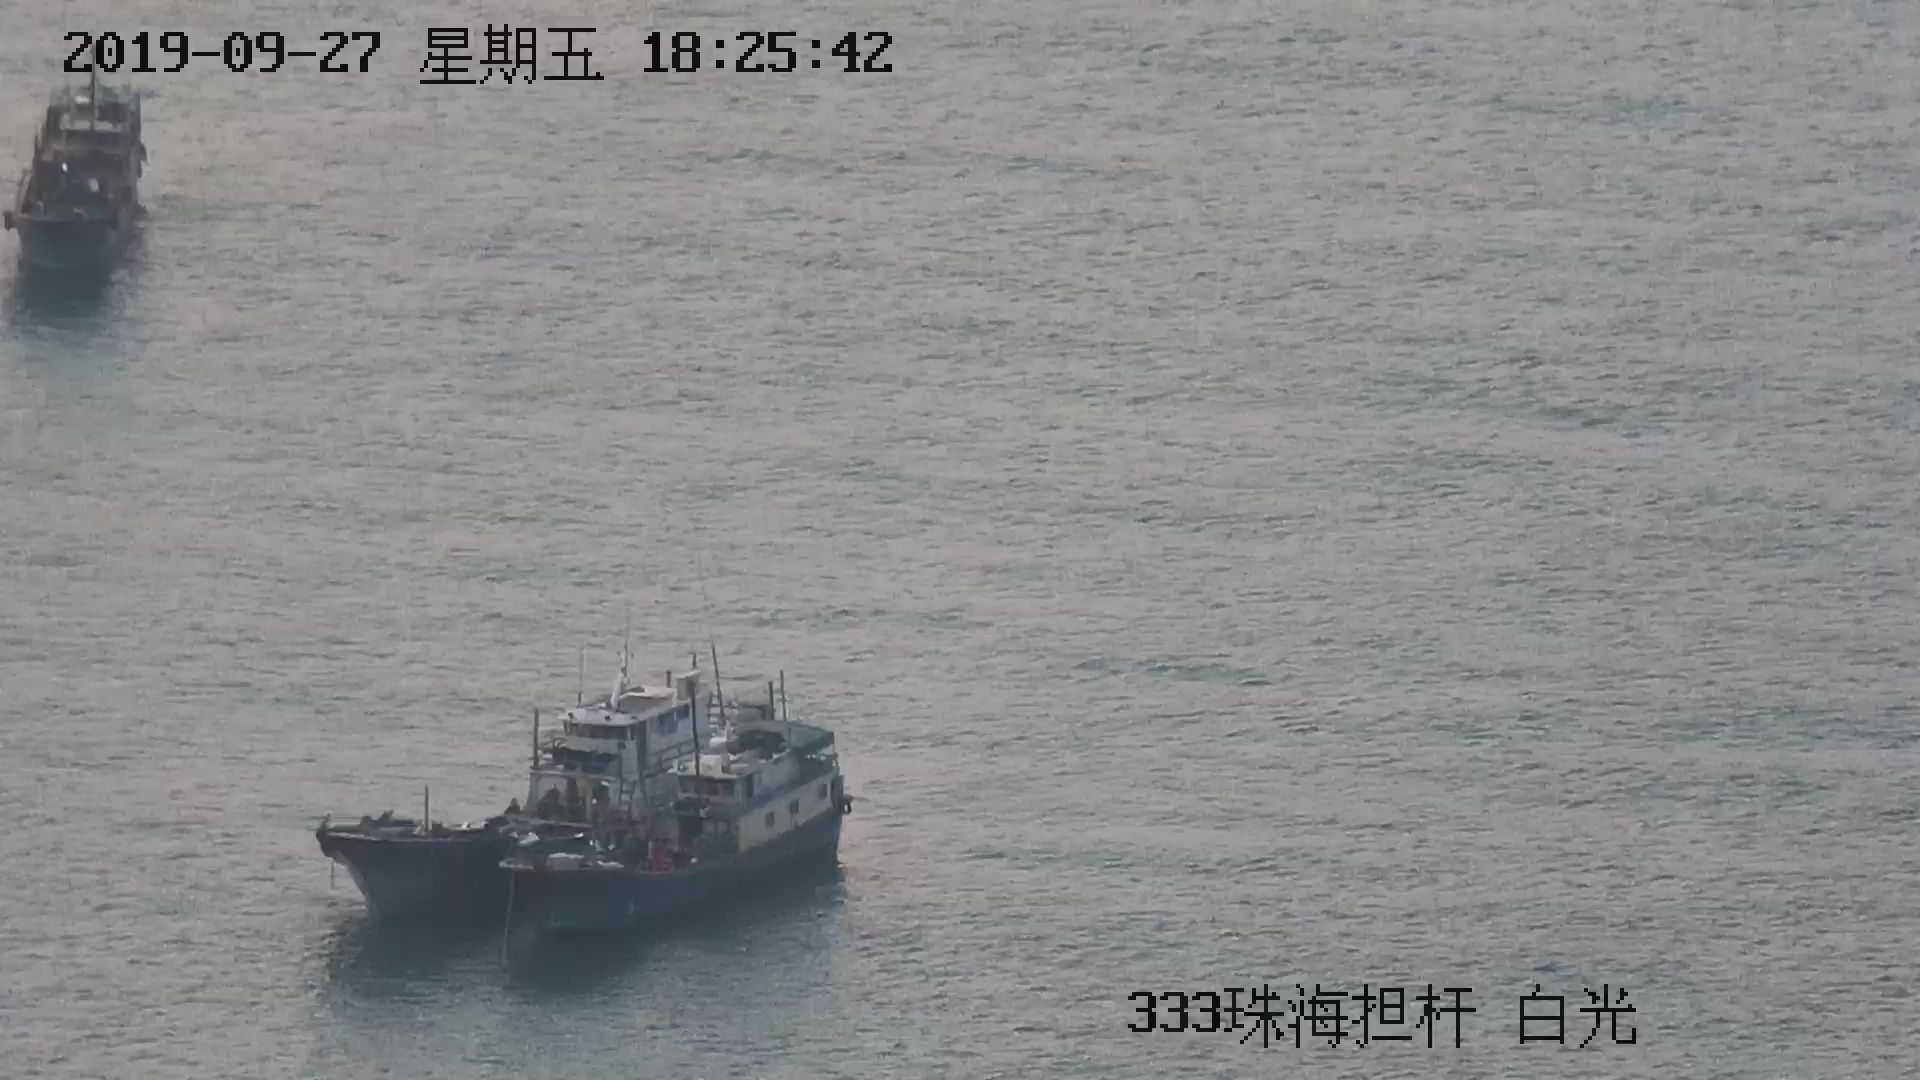ship: (305, 642, 851, 956), (7, 62, 149, 276)
